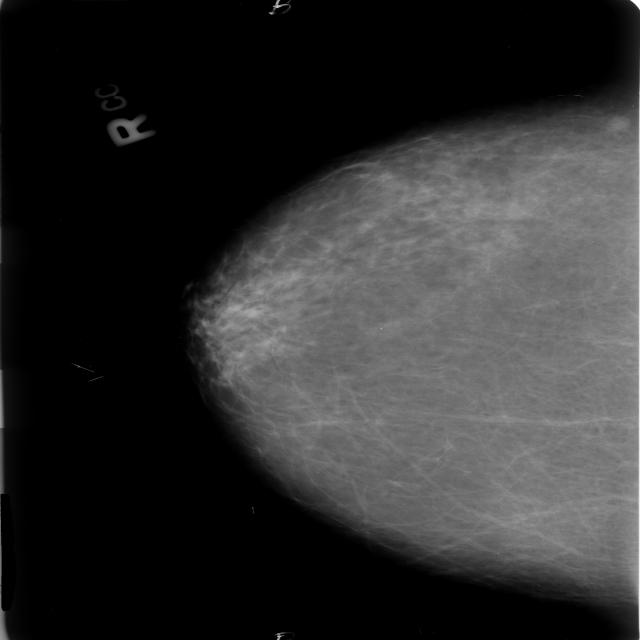normal: (197, 97, 640, 583)
